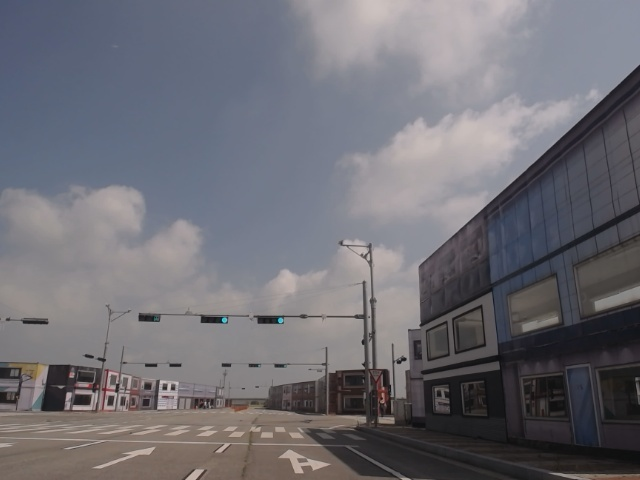straight_green_4: (256, 316, 286, 325), (201, 314, 229, 323)
